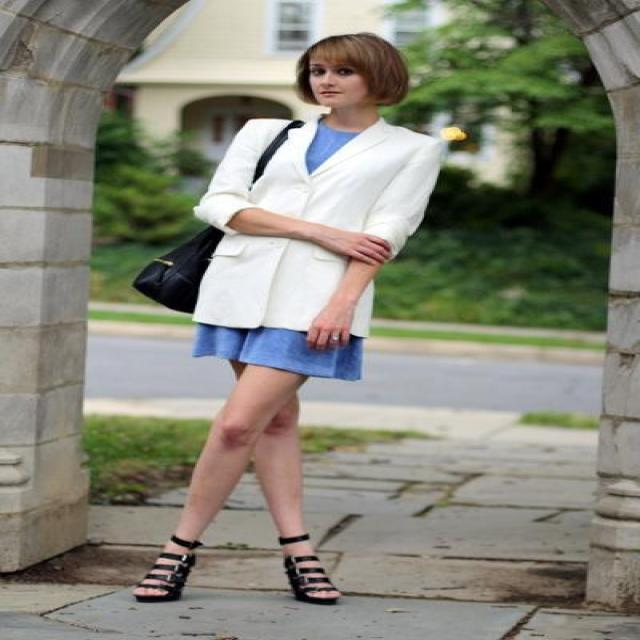dress: (195, 123, 362, 380)
jacket: (192, 115, 437, 336)
shirt: (253, 141, 283, 182)
shoe: (136, 535, 338, 605)
